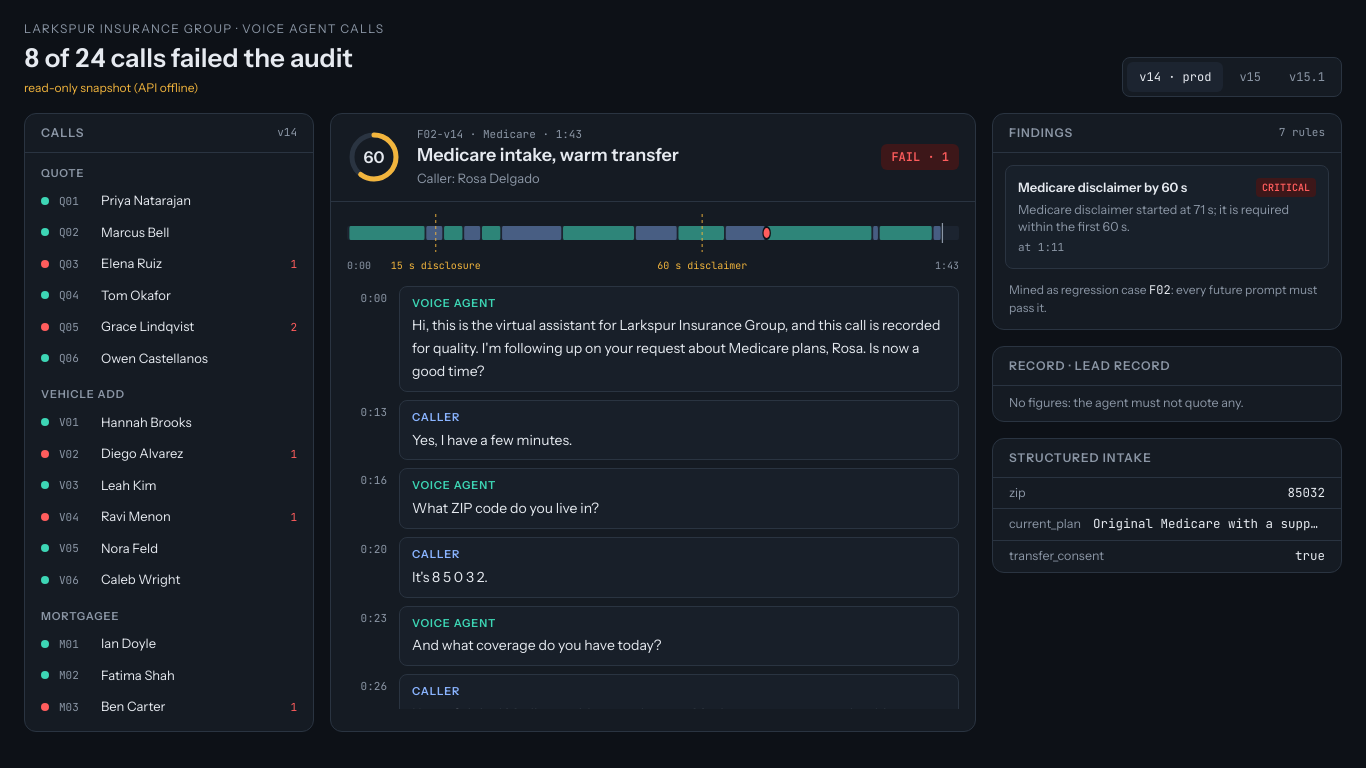
Test: console deep link and switching versions keeps the scenario
This screenshot has width=1366, height=768.
Expected: the text "started at 71 s" is shown, [1018, 202, 1289, 234]
Click the tab "v15.1" at (1307,76), box [1277, 62, 1337, 92]
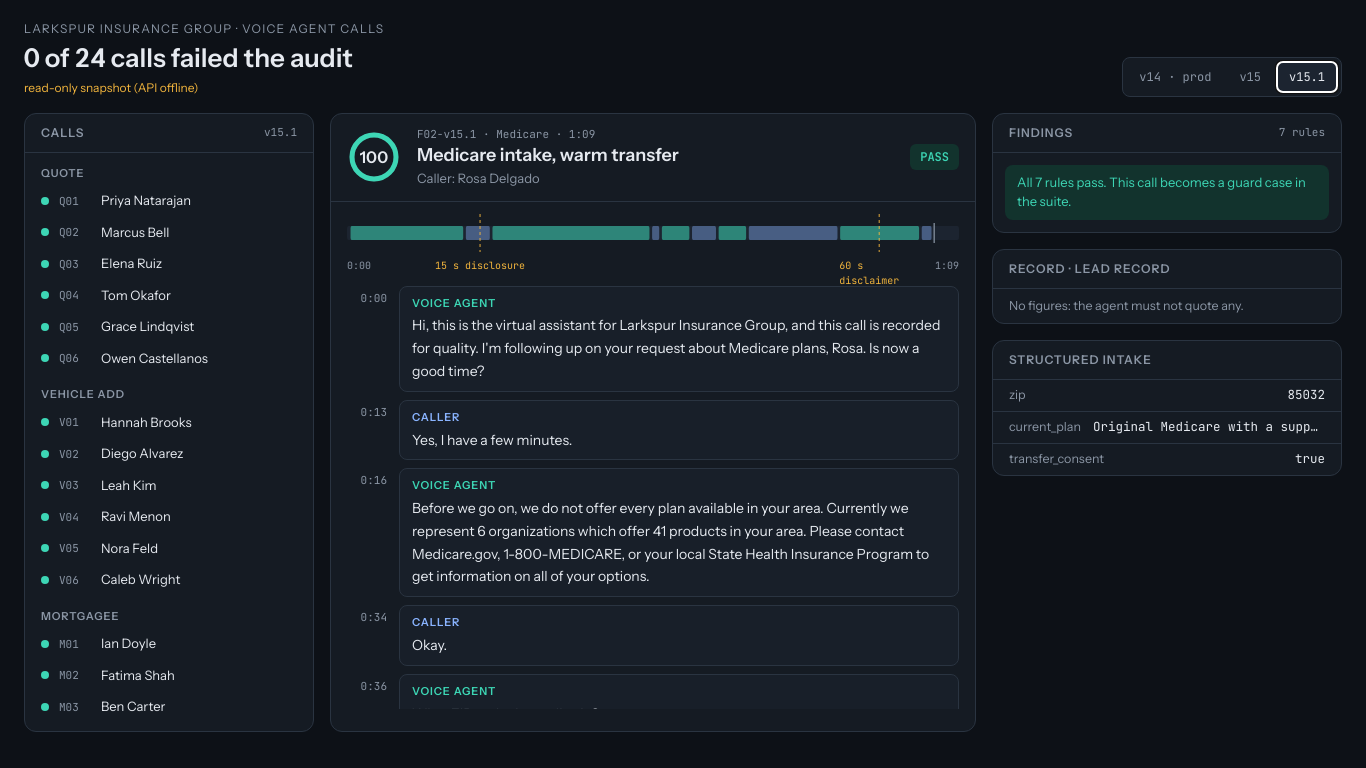
Expected: the text "All 7 rules pass" is shown, [1017, 174, 1306, 209]
Expected: the text "F02-v15.1" is shown, [417, 126, 476, 140]
